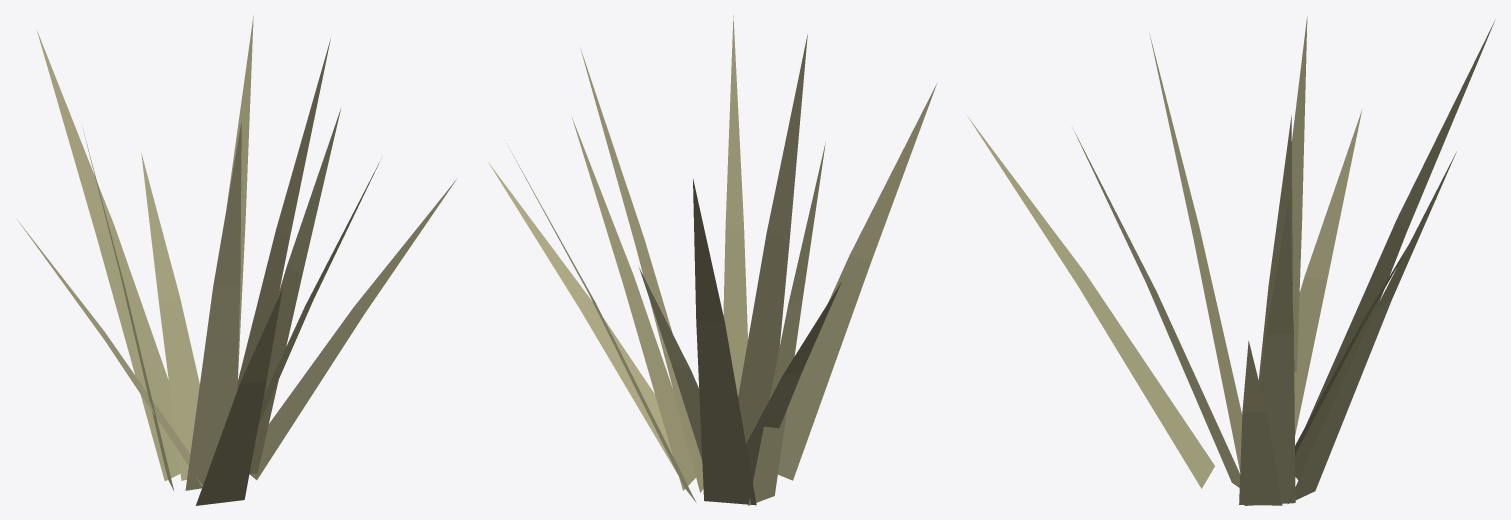
Rendered from grass_tuft_a_LOD0.fbx.
The picture shows the model from 3 angles, left to right: view 1: azimuth 30°, elevation 25°; view 2: azimuth 150°, elevation 25°; view 3: azimuth 270°, elevation 25°; orthographic projection. The views are drawn at different scales.
Parts seen in each view (by area): view 1: grass_tuft; view 2: grass_tuft; view 3: grass_tuft.
Part boxes in pixels (x1,y1,x2,y2): grass_tuft: (18,15,457,505); grass_tuft: (488,15,936,505); grass_tuft: (967,16,1494,505).
Bounding box in the file's own units: 91.52 × 90 × 97.22.
